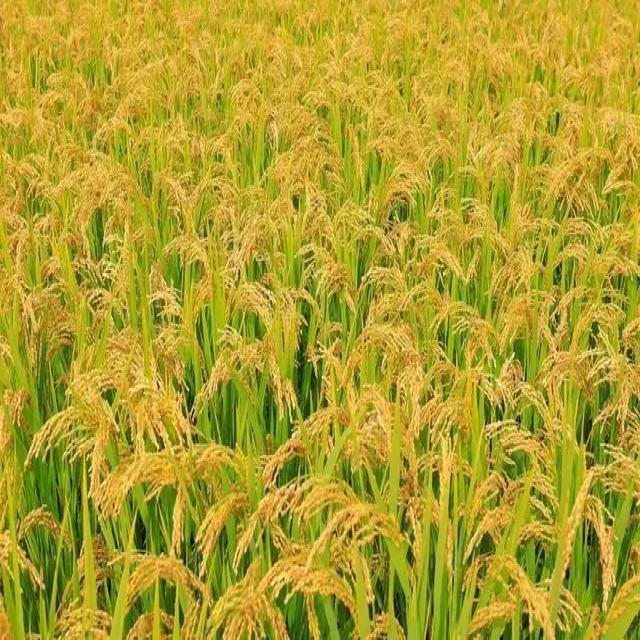Padi: (42, 80, 296, 198), (36, 378, 238, 508), (106, 532, 358, 632), (276, 390, 478, 478), (162, 242, 332, 340), (310, 300, 494, 386), (544, 468, 640, 604), (8, 256, 130, 358), (464, 142, 622, 218), (530, 330, 640, 416)
